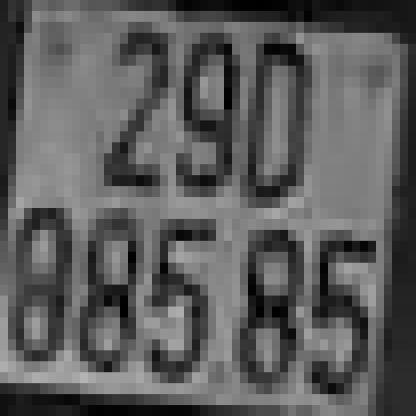2: (96, 22, 168, 197)
5: (144, 208, 208, 372), (304, 219, 368, 383)
8: (224, 219, 296, 383), (72, 208, 136, 361), (8, 208, 72, 350)
9: (176, 33, 232, 197)
D: (240, 33, 304, 208)
